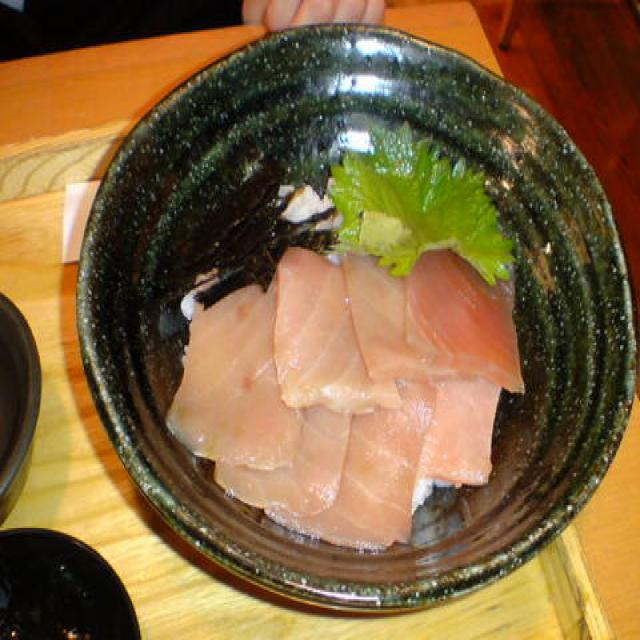刺身生食: (108, 69, 620, 578)
